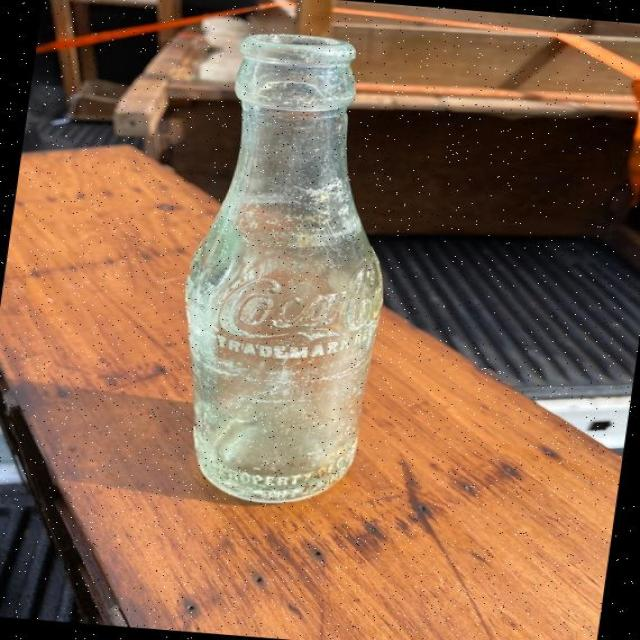coca-cola: (148, 27, 424, 509)
